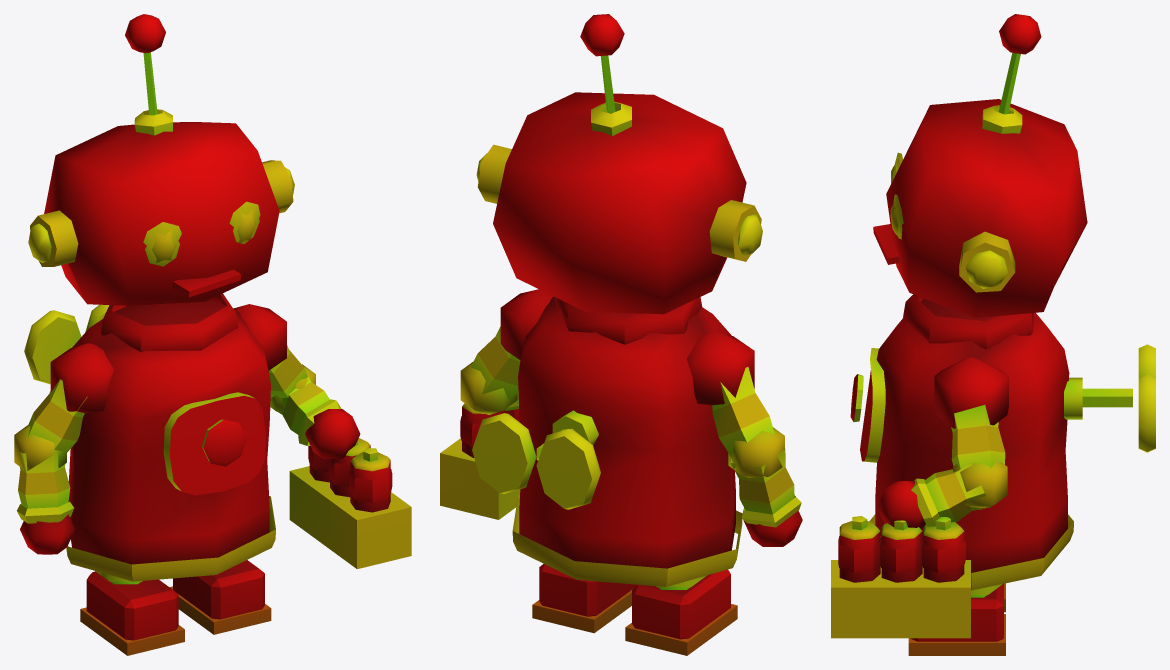
Rendered from RobotWorker_food_LOD1.glb.
3 views of the same model, side by side, from view 1: azimuth 30°, elevation 25°; view 2: azimuth 150°, elevation 25°; view 3: azimuth 270°, elevation 25° (orthographic). The views are drawn at different scales.
Visible parts, largest first — view 1: RobotWorker_food_LOD1; view 2: RobotWorker_food_LOD1; view 3: RobotWorker_food_LOD1.
Boxes of the visible parts, left/top/right/bottom form: RobotWorker_food_LOD1: left=14, top=14, right=411, bottom=655; RobotWorker_food_LOD1: left=440, top=14, right=802, bottom=655; RobotWorker_food_LOD1: left=831, top=14, right=1155, bottom=655.
Bounding box in the file's own units: 0.5466 × 0.93 × 0.453.
